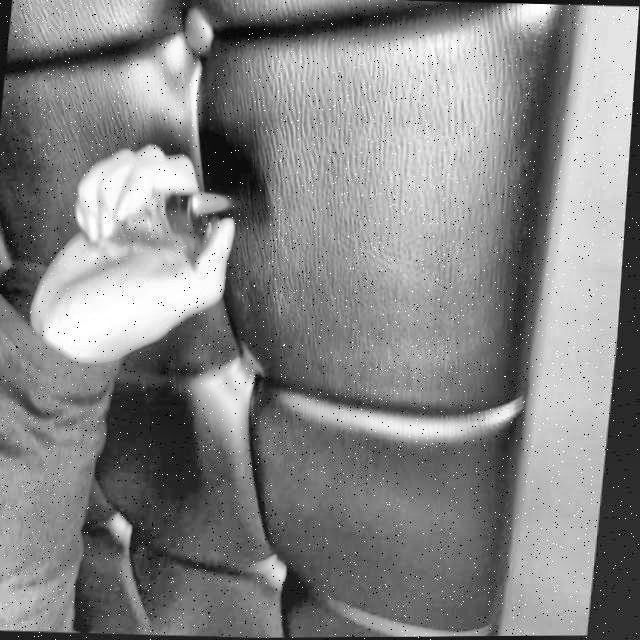Fire: (188, 192, 238, 218)
